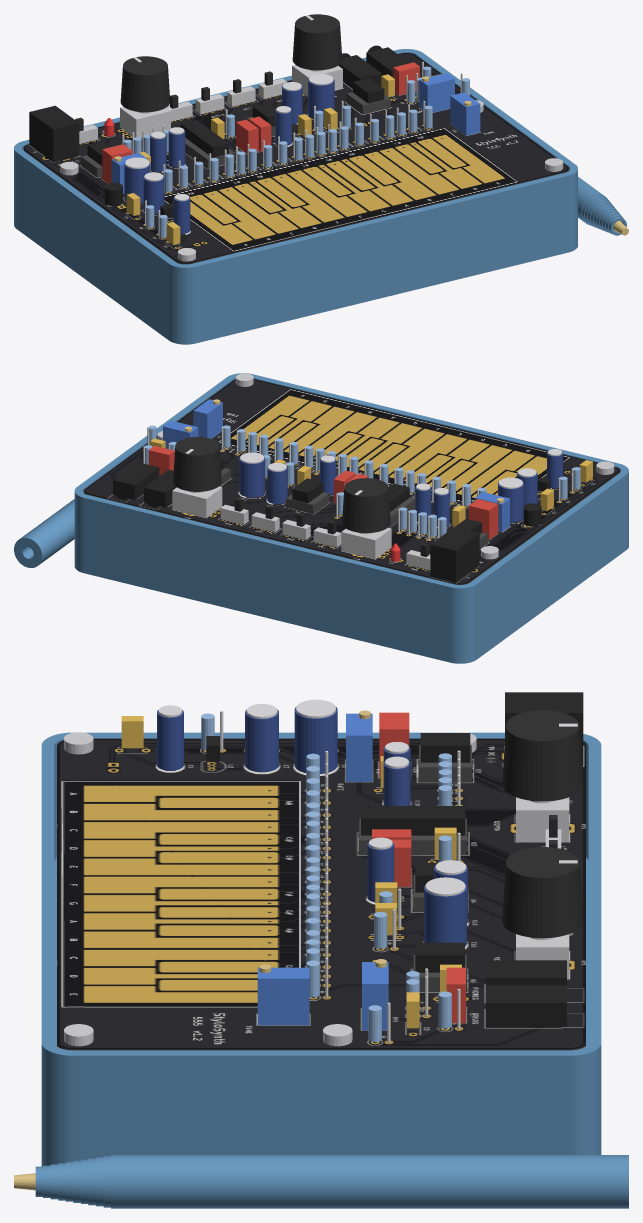
Rendered from stylosynth.glb.
The picture shows the model from 3 angles, top to bottom: view 1: azimuth 30°, elevation 25°; view 2: azimuth 150°, elevation 25°; view 3: azimuth 270°, elevation 25°; orthographic projection. The views are drawn at different scales.
Parts seen in each view (by area): view 1: SS_Tray, SS_PCB, SS_RV3_knob, SS_RV1_knob, SS_J1, SS_Stylus_body, SS_RV3, SS_RV5, SS_RV4, SS_U3, SS_J4, SS_C16 (+15 smaller); view 2: SS_Tray, SS_PCB, SS_RV3_knob, SS_RV1_knob, SS_Stylus_body, SS_J1, SS_RV1, SS_RV3, SS_J3, SS_RV4, SS_C16, SS_C18 (+19 smaller); view 3: SS_PCB, SS_Tray, SS_Stylus_body, SS_RV1_knob, SS_RV3_knob, SS_J3, SS_RV4, SS_U3, SS_C1, SS_C16, SS_J4, SS_RV3 (+16 smaller).
Boxes of the visible parts, left/top/right/bottom form: SS_Tray: left=14, top=49, right=577, bottom=344; SS_PCB: left=23, top=53, right=568, bottom=264; SS_RV3_knob: left=120, top=56, right=170, bottom=112; SS_RV1_knob: left=292, top=14, right=342, bottom=70; SS_J1: left=29, top=105, right=79, bottom=162; SS_Stylus_body: left=578, top=177, right=626, bottom=235; SS_RV3: left=120, top=106, right=170, bottom=137; SS_RV5: left=419, top=73, right=454, bottom=112; SS_RV4: left=450, top=92, right=480, bottom=135; SS_U3: left=180, top=120, right=228, bottom=157; SS_J4: left=338, top=55, right=381, bottom=88; SS_C16: left=308, top=78, right=334, bottom=119; SS_Tray: left=74, top=373, right=628, bottom=663; SS_PCB: left=84, top=379, right=619, bottom=584; SS_RV3_knob: left=342, top=478, right=390, bottom=533; SS_RV1_knob: left=173, top=437, right=221, bottom=491; SS_Stylus_body: left=14, top=499, right=74, bottom=567; SS_J1: left=430, top=527, right=479, bottom=582; SS_RV1: left=172, top=486, right=222, bottom=517; SS_RV3: left=341, top=527, right=391, bottom=559; SS_J3: left=113, top=462, right=159, bottom=499; SS_RV4: left=193, top=399, right=222, bottom=438; SS_C16: left=239, top=457, right=264, bottom=497; SS_C18: left=468, top=499, right=498, bottom=539; SS_PCB: left=57, top=739, right=585, bottom=1050; SS_Tray: left=41, top=732, right=601, bottom=1166; SS_Stylus_body: left=35, top=1155, right=628, bottom=1208; SS_RV1_knob: left=502, top=847, right=582, bottom=938; SS_RV3_knob: left=502, top=710, right=582, bottom=801; SS_J3: left=485, top=985, right=566, bottom=1027; SS_RV4: left=257, top=967, right=309, bottom=1025; SS_U3: left=361, top=806, right=465, bottom=835; SS_C1: left=294, top=706, right=337, bottom=773; SS_C16: left=424, top=884, right=466, bottom=946; SS_J4: left=485, top=960, right=566, bottom=985; SS_RV3: left=516, top=797, right=569, bottom=842.
Size of the model in its own units: 158 by 48.8 by 114.
22 materials, 2 textured.
